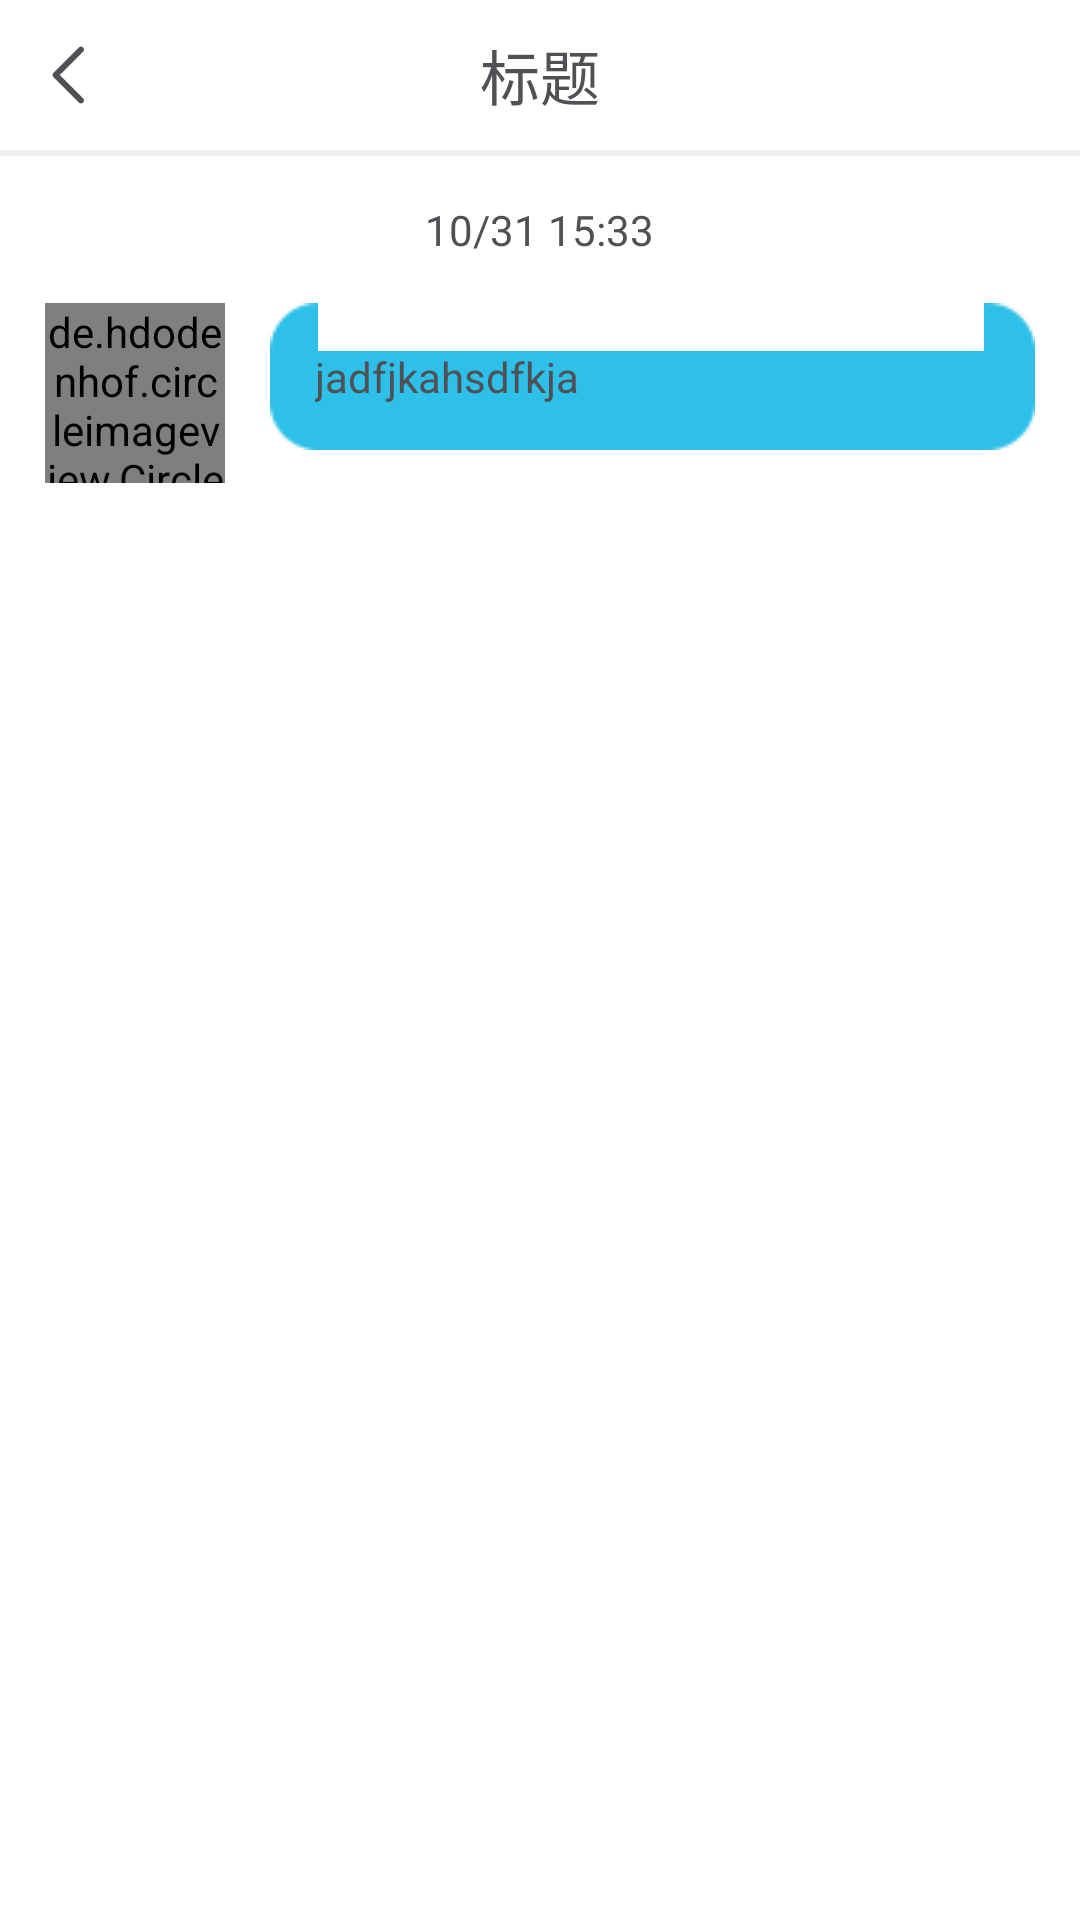

Named icons in this screenshot (1080w x 1920h) and their bounding boxes, (x1, y1, x2, y2):
back: (52, 46, 84, 104)
